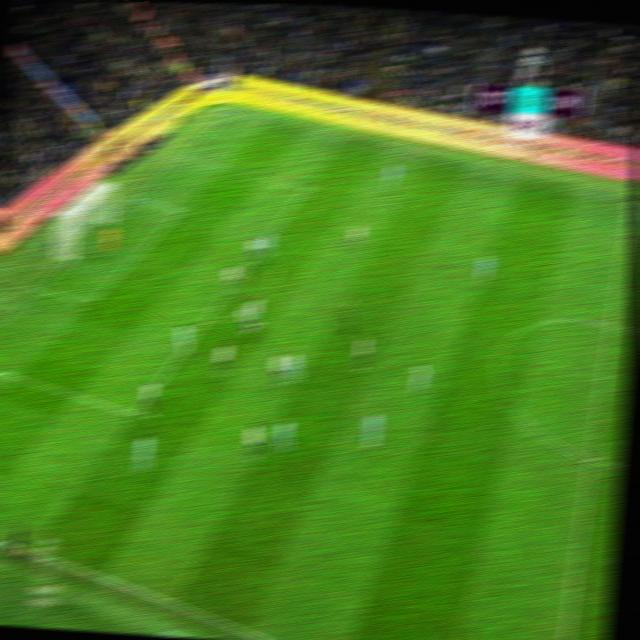bigarea_bottom_inner: (125, 409, 144, 422)
bigarea_top_inner: (295, 180, 314, 194)
bigarea_top_outter: (171, 152, 192, 165)
bottom_arc_area_intersection: (195, 316, 214, 331)
corner: (220, 106, 241, 119)
halfcircle_bottom: (579, 450, 604, 468)
halfcircle_top: (599, 316, 623, 334)
midline_top_intersection: (620, 196, 637, 211)
smallarea_bottom_inner: (80, 297, 99, 312)
smallarea_bottom_outter: (29, 281, 51, 296)
smallarea_top_inner: (171, 204, 190, 217)
smallarea_top_outter: (128, 193, 147, 206)
top_arc_area_intersection: (253, 237, 275, 252)
